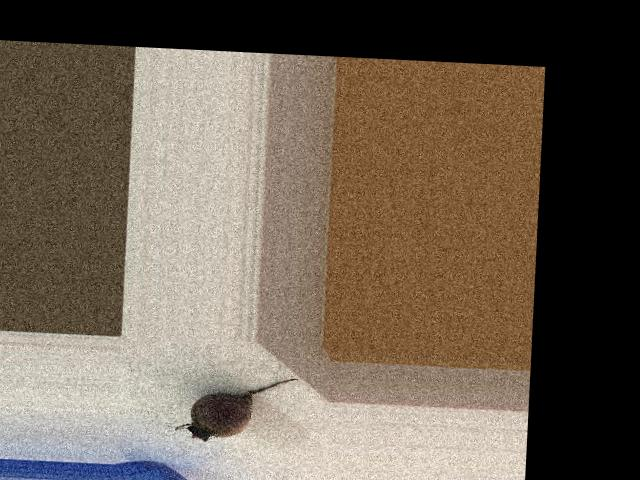beet: (175, 372, 298, 445)
